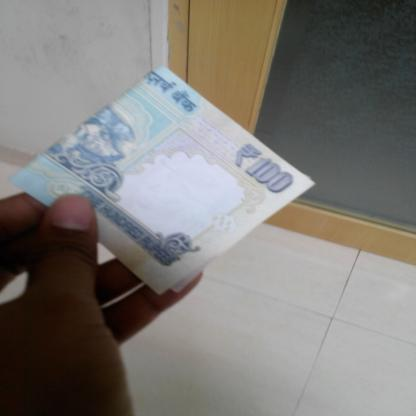Old100Back: (9, 64, 316, 296)
